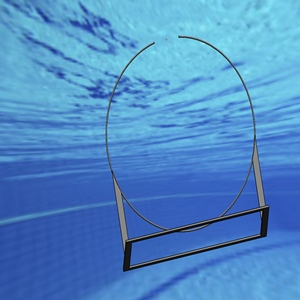circle: (102, 32, 270, 270)
